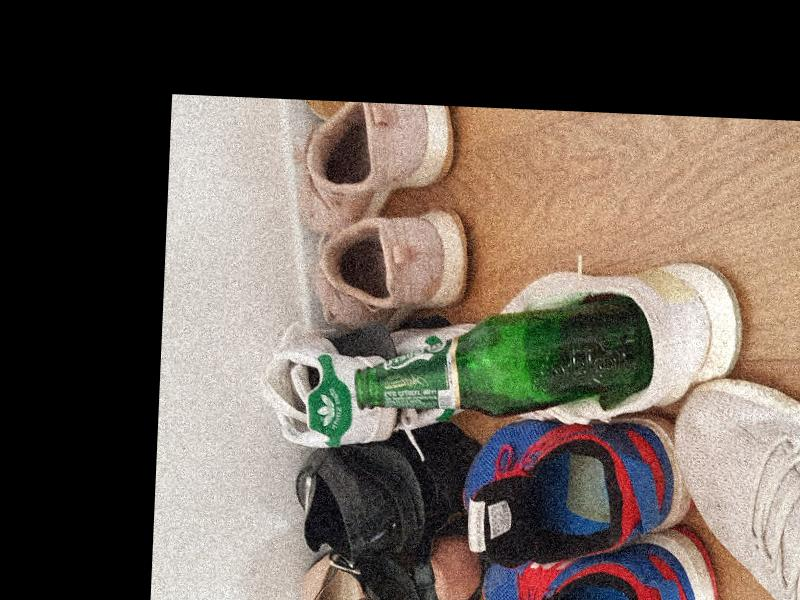Beer: (356, 287, 654, 425)
